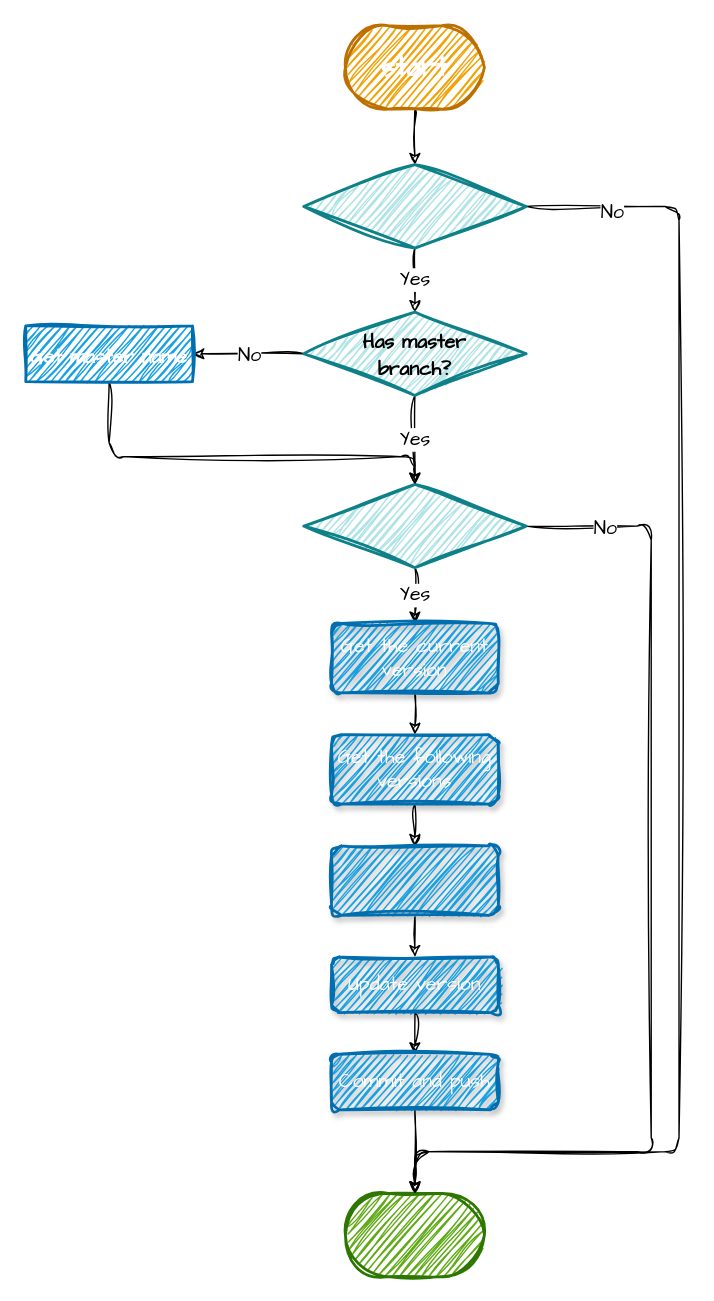
Image size: 714x1301. Some labels were removed from this diagram. The centre of each missing label's shape, as x and y in pixels:
"end" belongs at point (414, 1234).
"Has merged?" belongs at point (414, 525).
"Input the release message" belongs at point (415, 882).
"Is repo clean?" belongs at point (414, 206).
